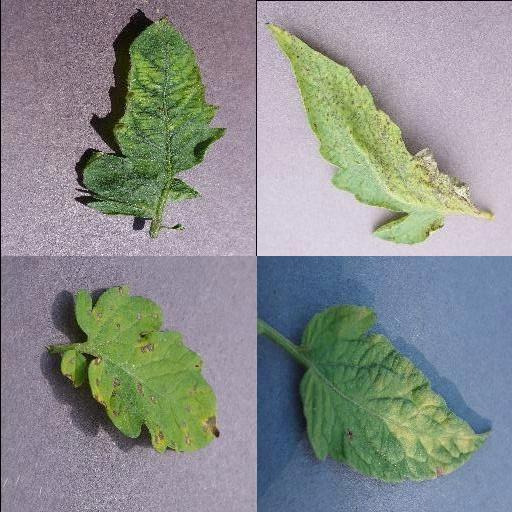Leaf Mold: (297, 305, 495, 484)
Mosaic Virus: (82, 14, 228, 222)
Septoria: (266, 19, 474, 242), (73, 284, 219, 454)
